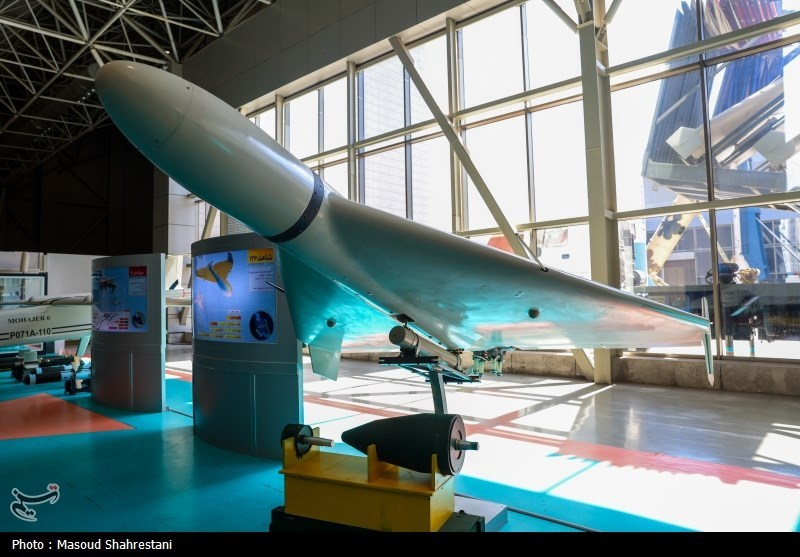shahed: (100, 58, 716, 389)
